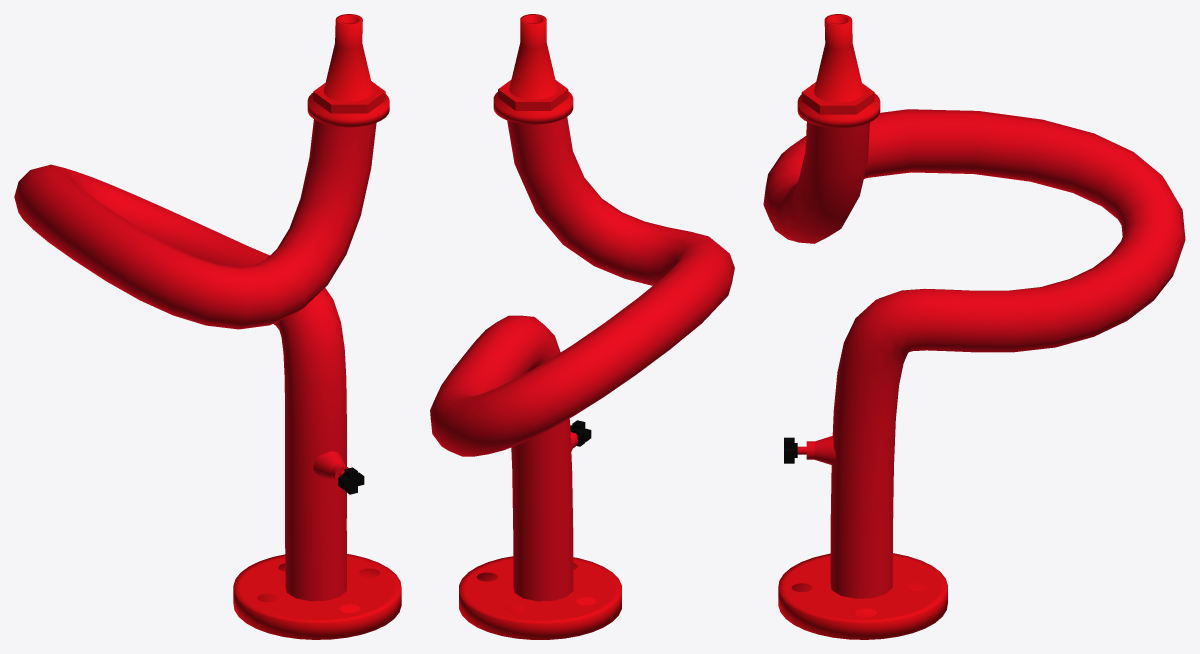
File: Water Monitor Fix.fbx
The picture shows the model from 3 angles, left to right: view 1: azimuth 30°, elevation 25°; view 2: azimuth 150°, elevation 25°; view 3: azimuth 270°, elevation 25°; orthographic projection. The views are drawn at different scales.
Visible parts, largest first — view 1: BezierCurve, Circle.002, Circle; view 2: BezierCurve, Circle.002, Circle; view 3: BezierCurve, Circle.002, Circle.
Part boxes in pixels (bbox=[...]): BezierCurve: bbox=[14, 119, 376, 601]; Circle.002: bbox=[233, 14, 401, 639]; Circle: bbox=[313, 451, 364, 494]; BezierCurve: bbox=[430, 117, 734, 601]; Circle.002: bbox=[459, 14, 621, 639]; Circle: bbox=[570, 420, 591, 451]; BezierCurve: bbox=[763, 109, 1185, 598]; Circle.002: bbox=[778, 14, 947, 639]; Circle: bbox=[784, 436, 835, 465].
Bounding box in the file's own units: 32.94 × 67.89 × 43.73.
